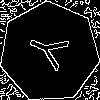Y: (24, 27, 79, 75)
